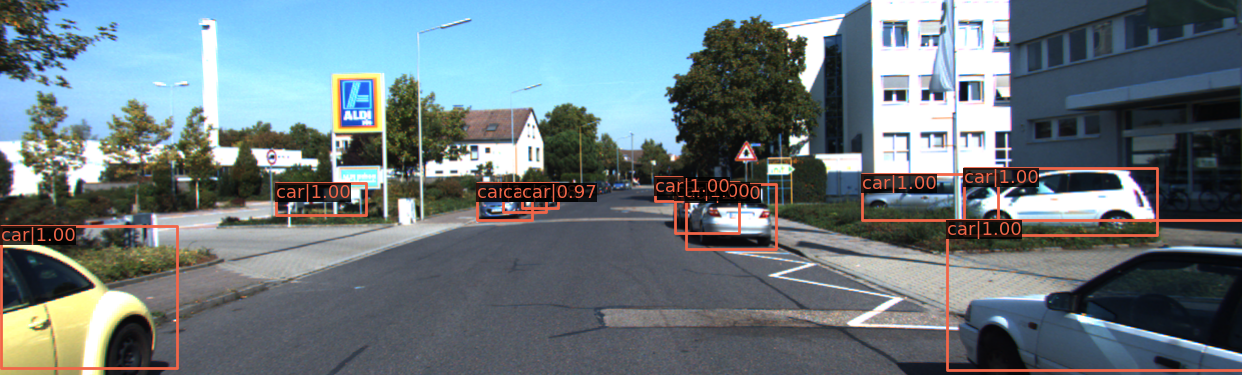car: (948, 220, 1242, 375), (1, 218, 168, 375), (967, 165, 1158, 241), (911, 175, 1073, 233), (853, 176, 1001, 224), (686, 189, 775, 249), (672, 184, 734, 232), (477, 186, 527, 221), (657, 179, 682, 204)
